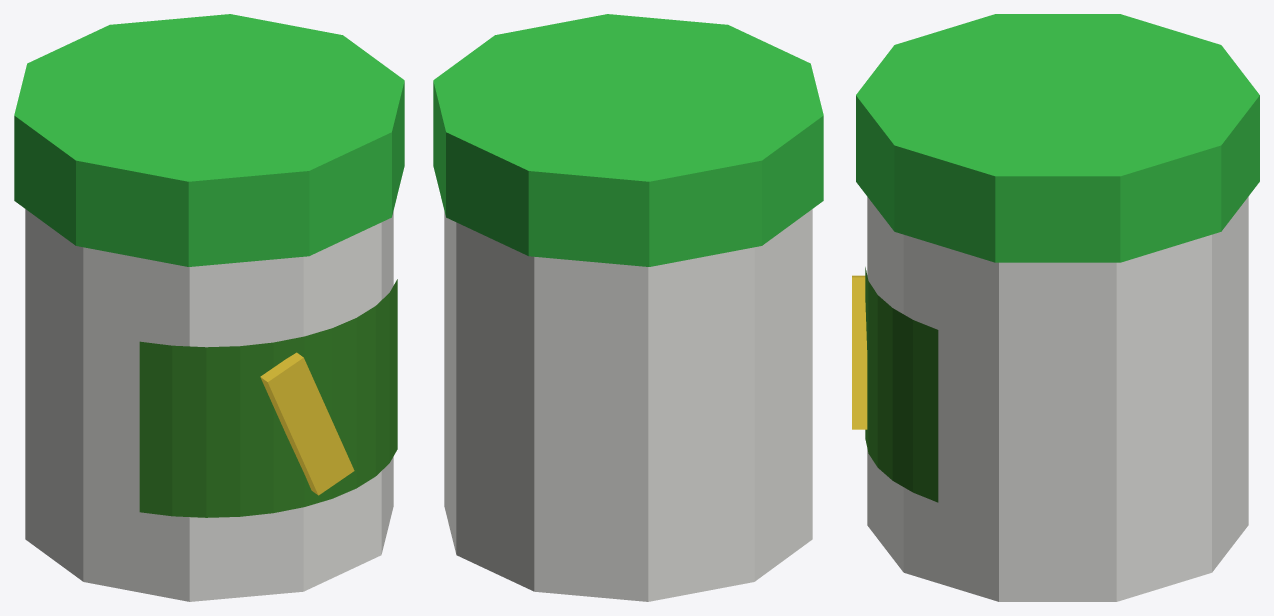
The model's file is laxative_jar.glb.
3 renders of one model, left to right at view 1: azimuth 30°, elevation 25°; view 2: azimuth 150°, elevation 25°; view 3: azimuth 270°, elevation 25°, orthographic.
Visible parts, largest first — view 1: jar_jar_lid_green, jar_jar_white, label_jar_label, label_jar_bolt; view 2: jar_jar_white, jar_jar_lid_green; view 3: jar_jar_white, jar_jar_lid_green, label_jar_label, label_jar_bolt.
Boxes of the visible parts, left/top/right/bottom form: jar_jar_lid_green: left=14, top=14, right=404, bottom=266; jar_jar_white: left=25, top=209, right=393, bottom=601; label_jar_label: left=139, top=279, right=397, bottom=517; label_jar_bolt: left=260, top=352, right=354, bottom=495; jar_jar_white: left=444, top=209, right=812, bottom=601; jar_jar_lid_green: left=433, top=14, right=823, bottom=266; jar_jar_white: left=867, top=197, right=1248, bottom=601; jar_jar_lid_green: left=856, top=14, right=1259, bottom=262; label_jar_label: left=865, top=267, right=938, bottom=502; label_jar_bolt: left=852, top=275, right=867, bottom=429.
Size of the model in its own units: 0.1008 by 0.1245 by 0.107.
